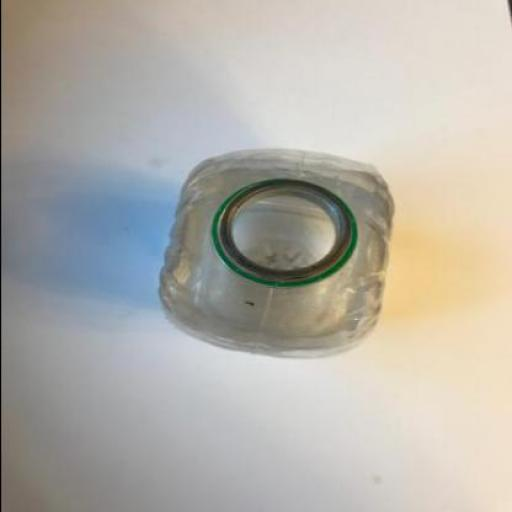plastic: (156, 148, 392, 357)
